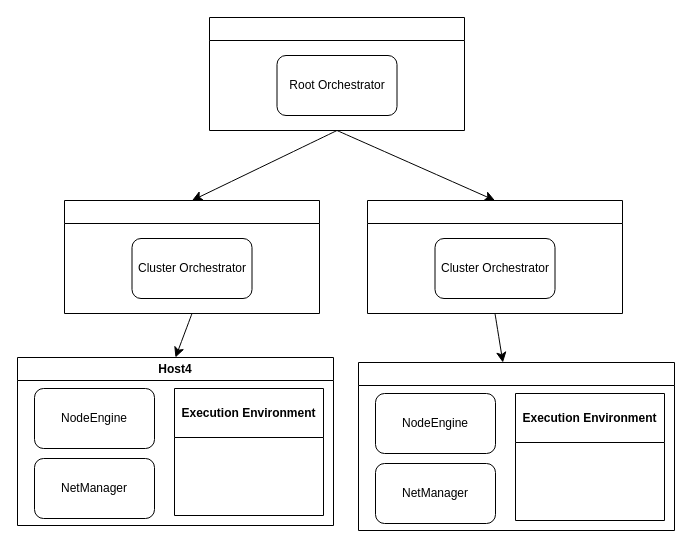
Some shapes in this 692 by 548 pixel diagram are drawn without their labels. The box of each missing label's shape, as (x1, y1, x2, y2) in pixels:
Host1: (208, 16, 464, 130)
Host2: (64, 200, 320, 314)
Host3: (366, 200, 622, 314)
Host5: (358, 362, 674, 530)
